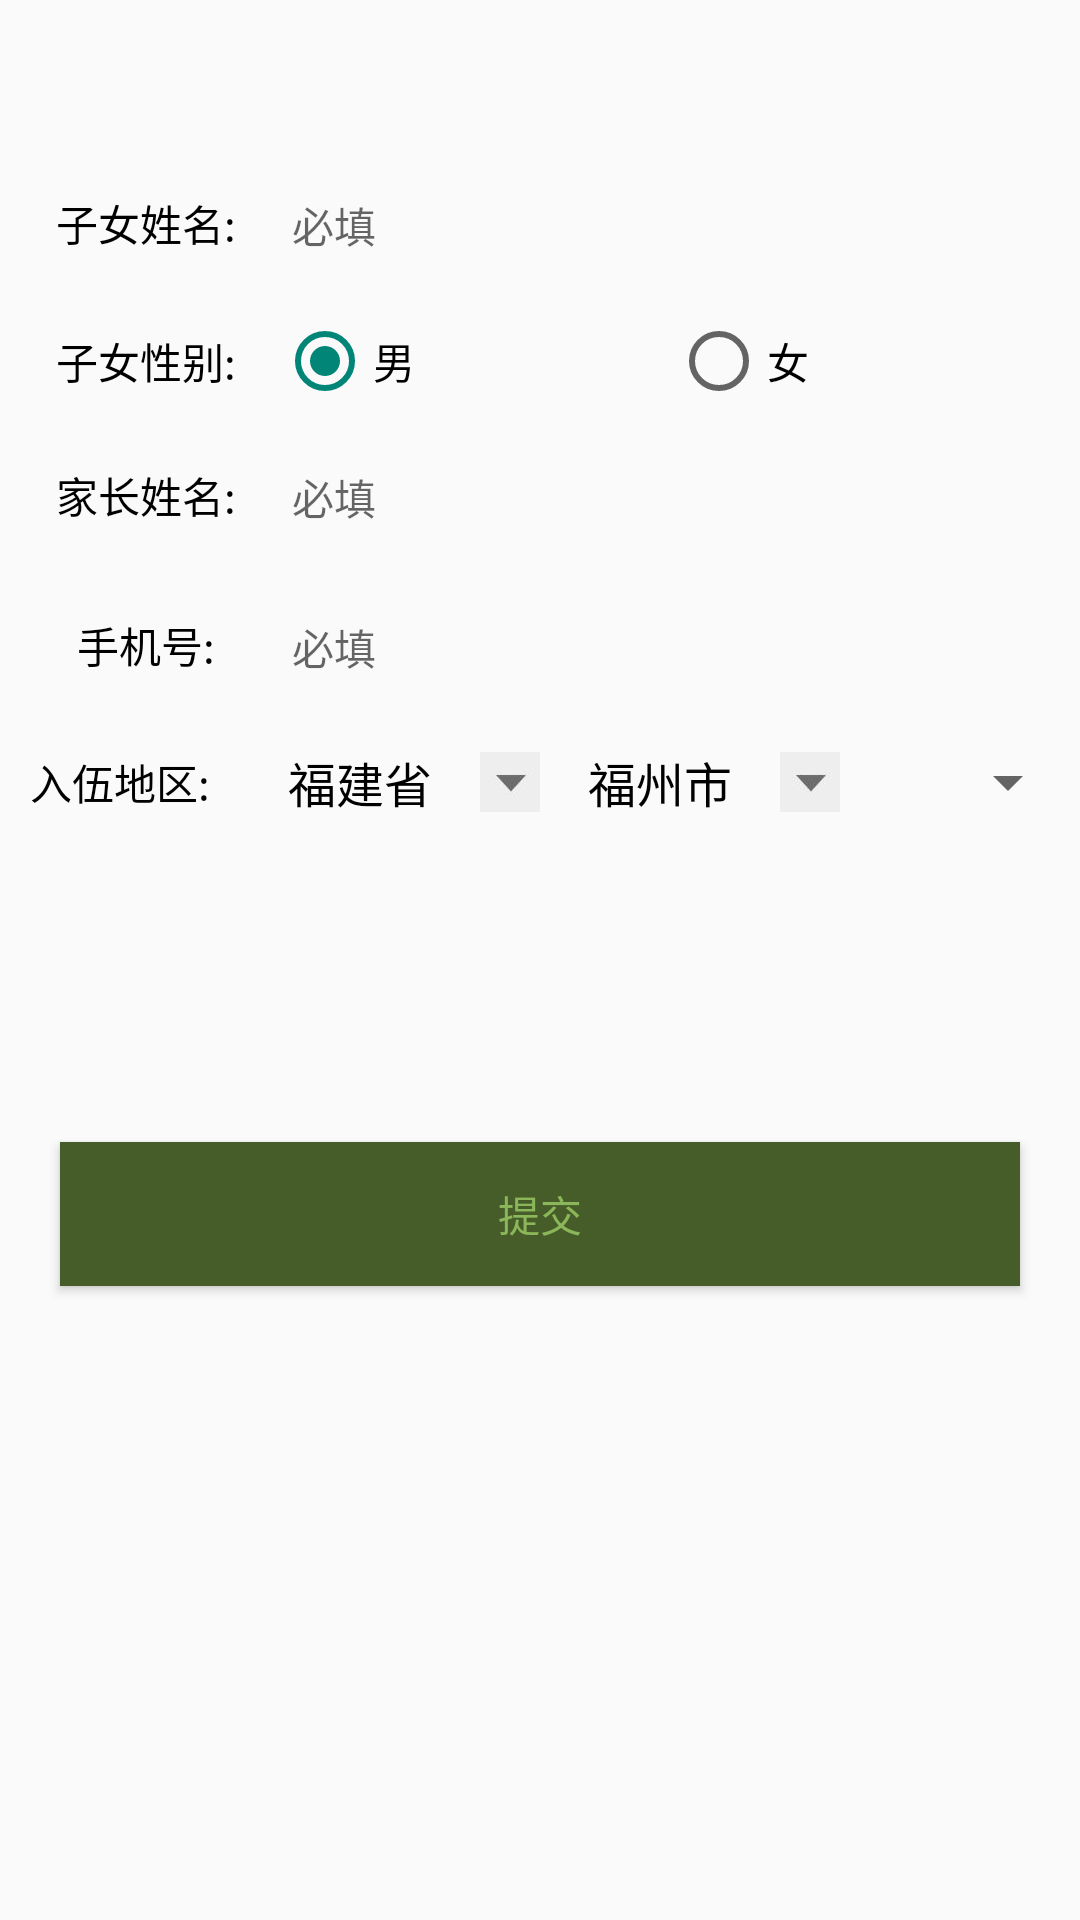

Icon bounding boxes for this 1080w x 1920h phone screenshot, format bbox=(x1, y1, x2, y2):
xia: bbox=(496, 774, 526, 792), bbox=(796, 774, 826, 792)
